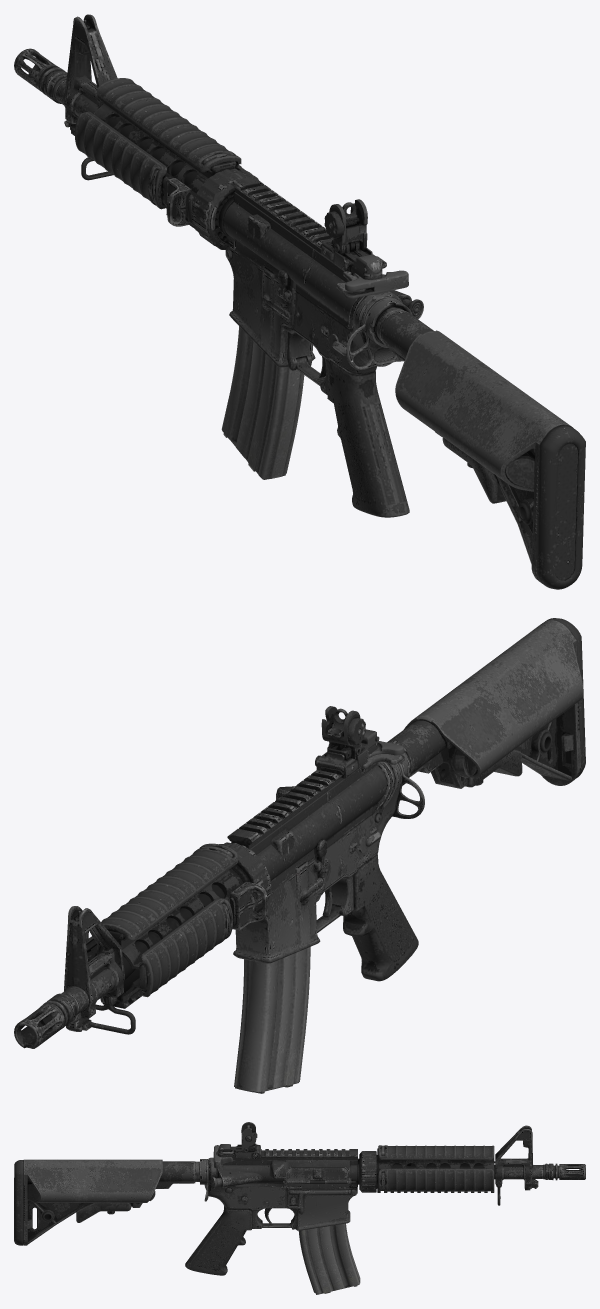
3 views of the same model, one above another, from view 1: azimuth 30°, elevation 25°; view 2: azimuth 150°, elevation 25°; view 3: azimuth 270°, elevation 25° (orthographic). The views are drawn at different scales.
Parts seen in each view (by area): view 1: v_m4a4_R; view 2: v_m4a4_R; view 3: v_m4a4_R.
Part boxes in pixels (x1,y1,x2,y2): v_m4a4_R: (14,14,585,589); v_m4a4_R: (14,618,585,1093); v_m4a4_R: (14,1122,585,1294).
Size of the model in its own units: 0.0925 by 0.2932 by 0.8968.
1 material, 1 textured.
